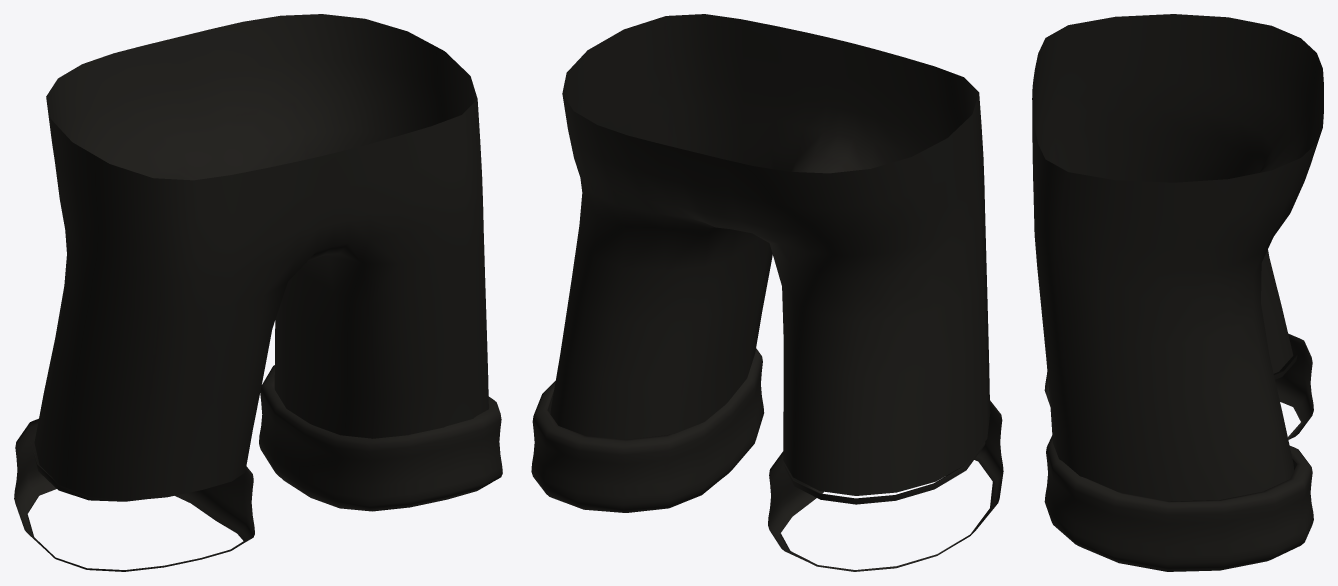
File: Black Pants.glb
3 renders of one model, left to right at view 1: azimuth 30°, elevation 25°; view 2: azimuth 150°, elevation 25°; view 3: azimuth 270°, elevation 25°, orthographic. The views are drawn at different scales.
Visible parts, largest first — view 1: Trousers; view 2: Trousers; view 3: Trousers.
Boxes of the visible parts, <box> form: Trousers: <box>14,14,502,571</box>; Trousers: <box>531,14,1003,571</box>; Trousers: <box>1032,14,1323,571</box>.
Size of the model in its own units: 0.4695 by 0.4326 by 0.2996.
1 material, 1 textured.
